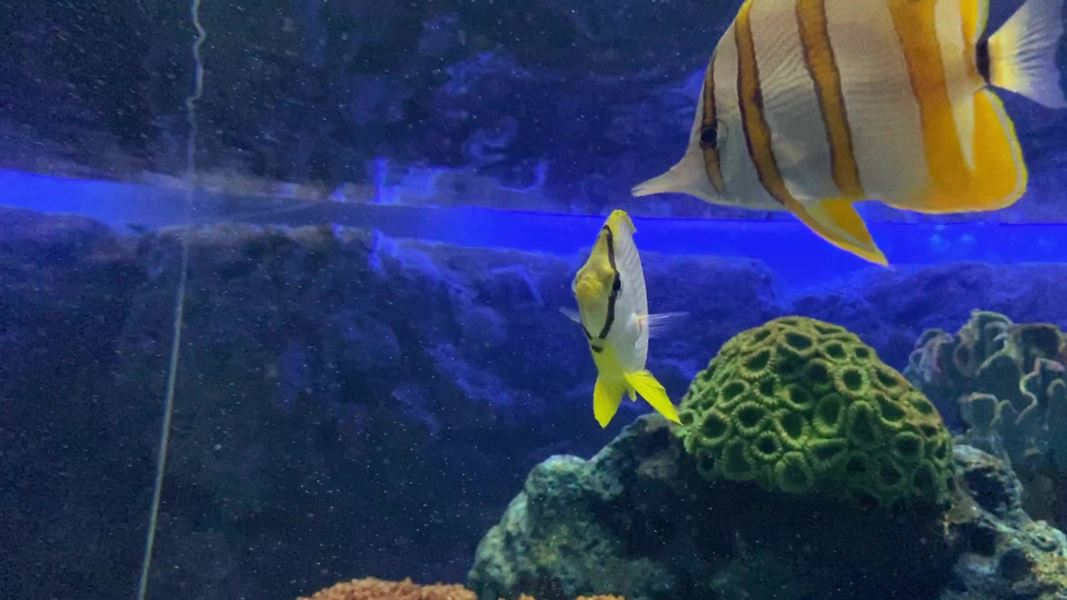Black-backed butterflyfish: (552, 196, 712, 444)
